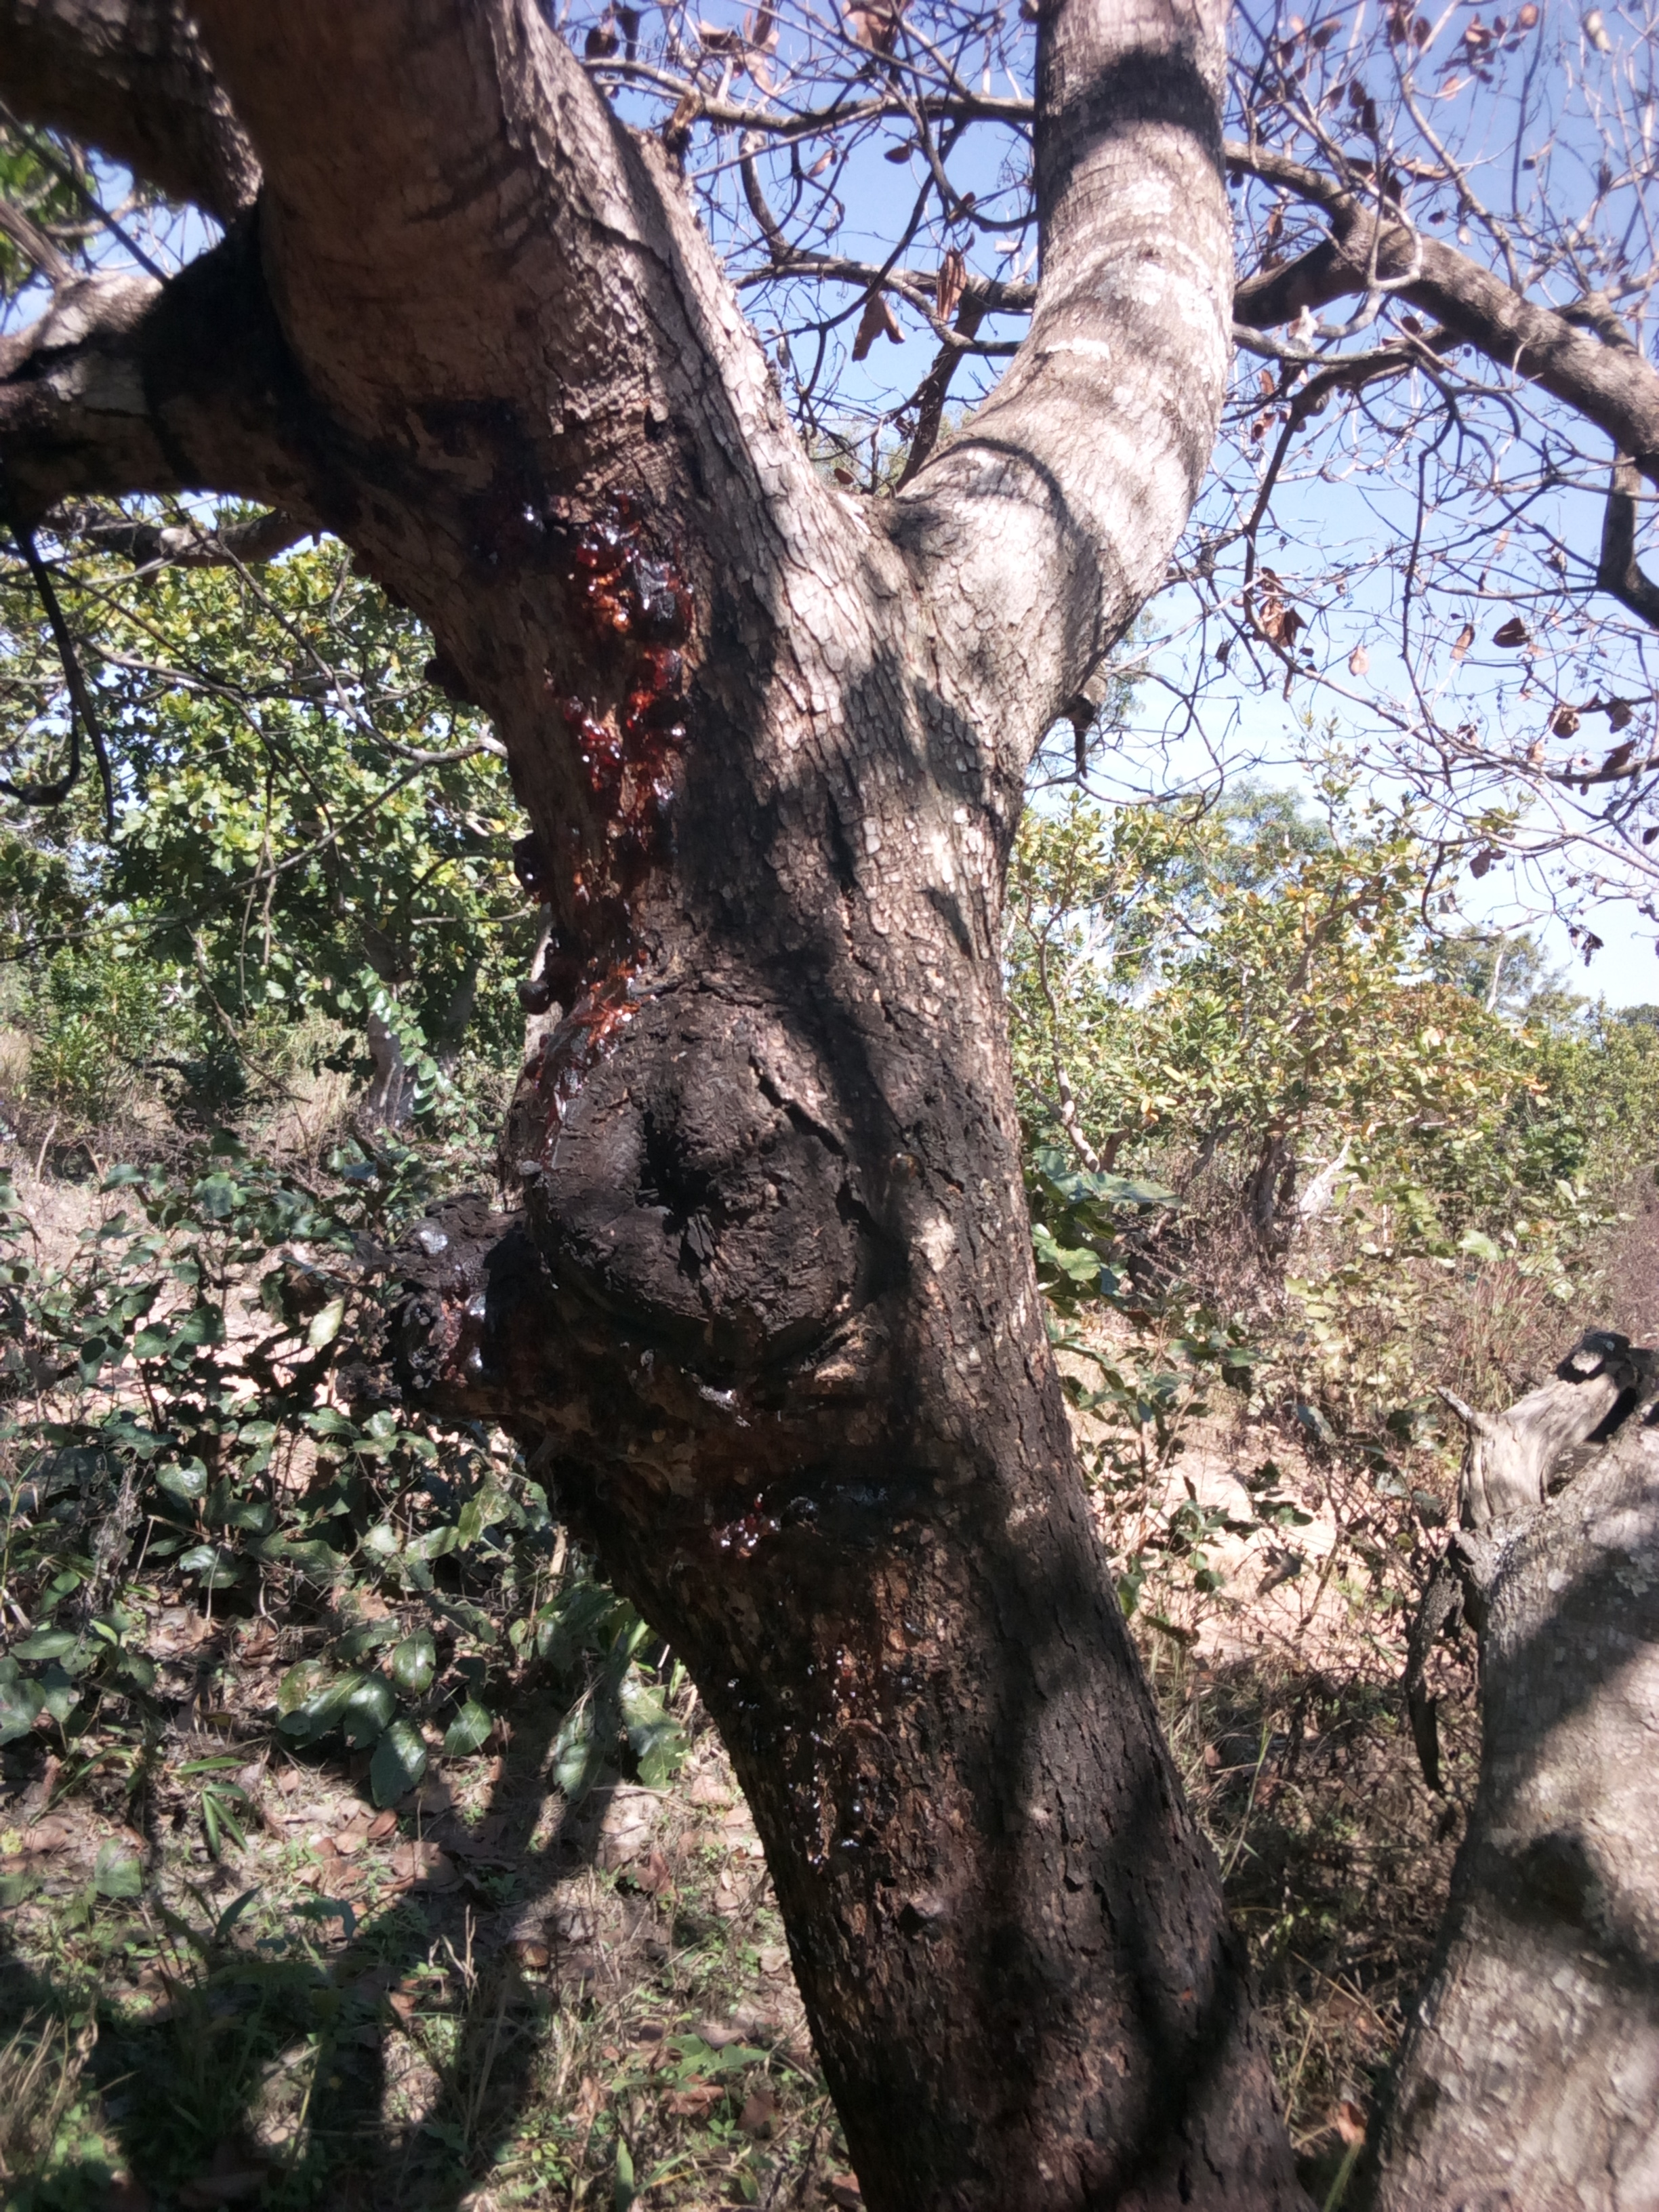Gommose: (423, 1299, 945, 1906), (419, 466, 728, 1123)
